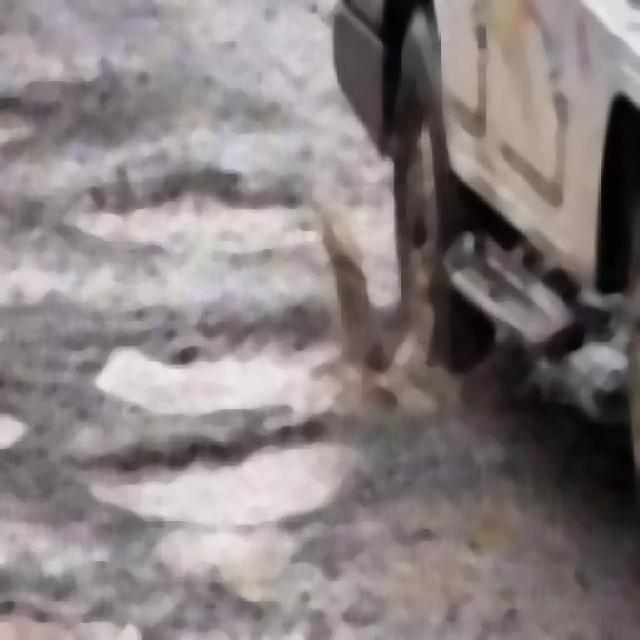Pothole: (103, 303, 348, 432), (118, 448, 367, 547), (0, 378, 34, 484)
